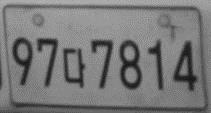1: (146, 37, 164, 91)
4: (172, 39, 197, 92)
7: (36, 37, 59, 87), (90, 39, 113, 89)
8: (118, 39, 142, 89)
9: (11, 37, 34, 86)
다: (62, 47, 86, 89)
